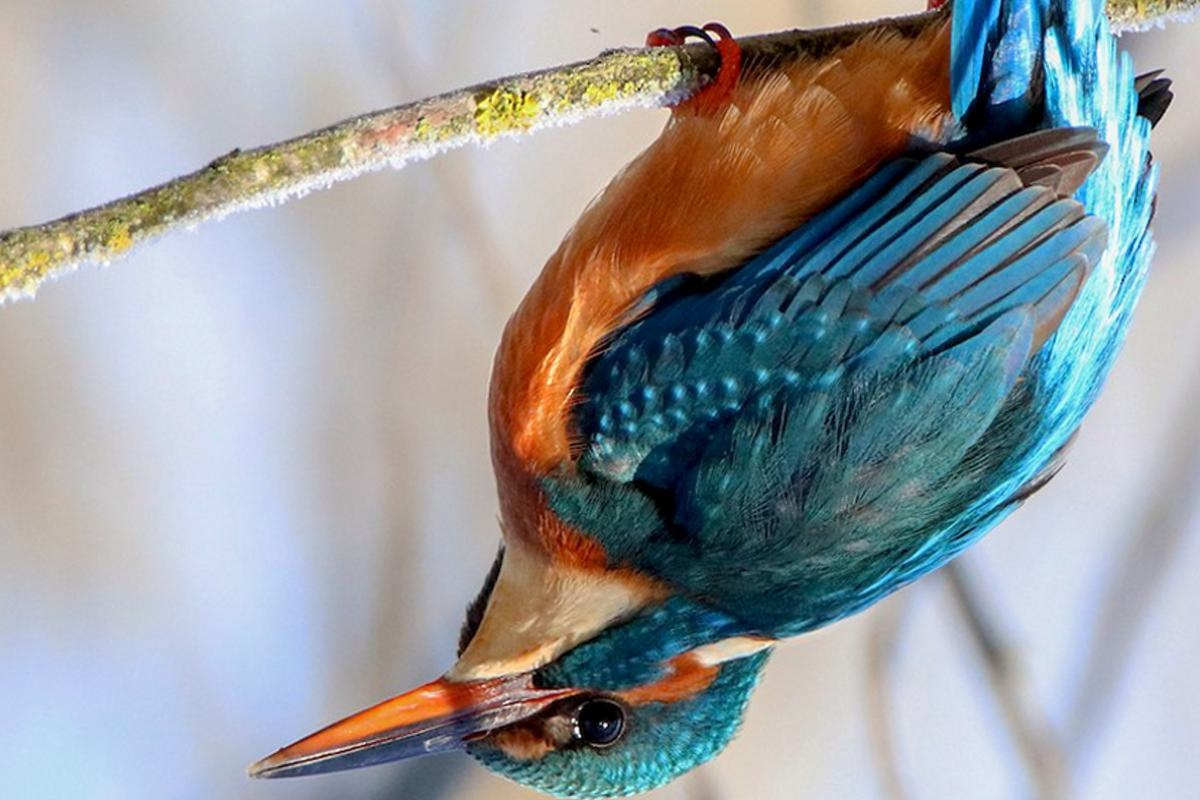kingfisher: (235, 4, 1170, 794)
